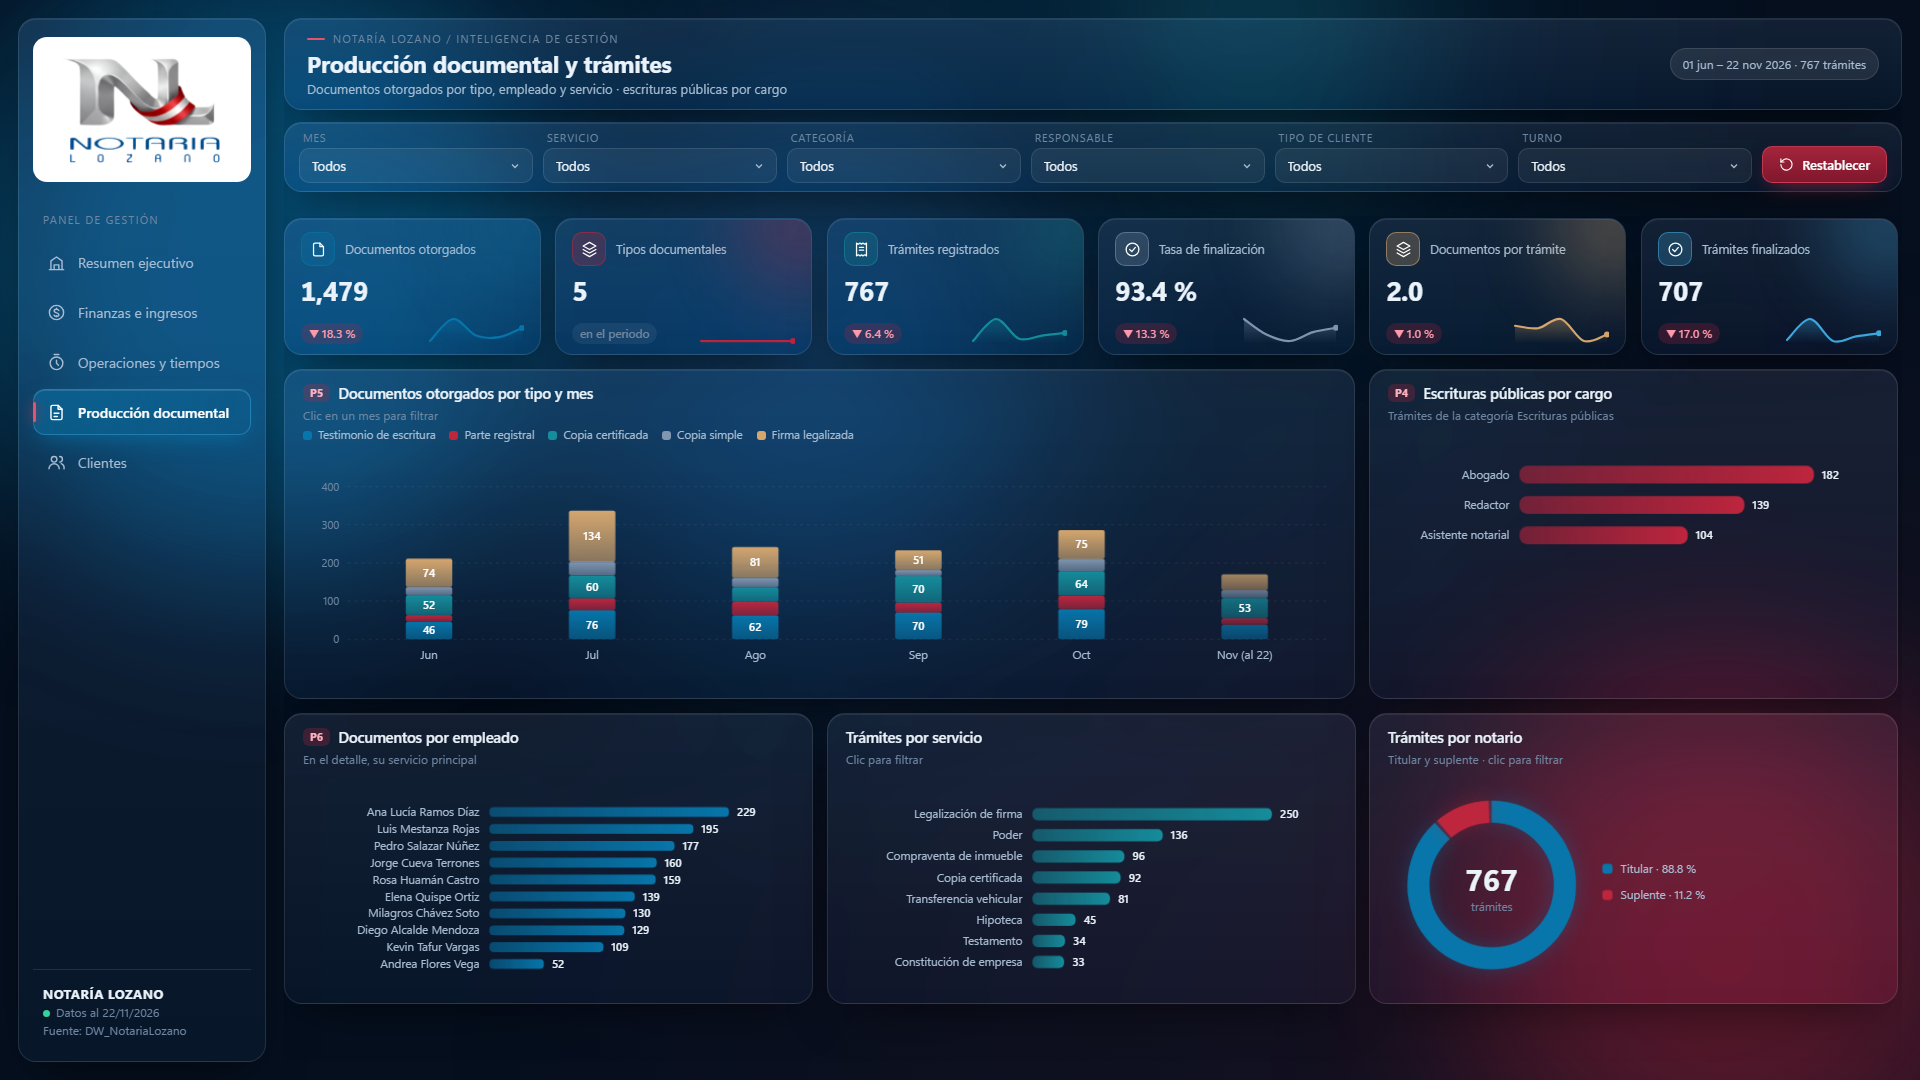

The page's visual inventory and layout, read from the dashboard file:
{"tool":"powerbi","page":{"name":"Producción documental y trámites","canvas":[1920,1280],"ordinal":2},"visuals":[{"type":"textbox","box":[302,67,1400,52],"z":0},{"type":"textbox","box":[304,123,1450,40],"z":1},{"type":"slicer","fields":{"Values":["DIM_TIEMPO.Anio"]},"box":[296,216,250.3,61],"z":3},{"type":"slicer","fields":{"Values":["DIM_TIEMPO.Nombre_Mes"]},"box":[560.3,216,250.3,61],"z":4},{"type":"slicer","fields":{"Values":["DIM_SERVICIO.Nombre_Tramite"]},"box":[824.7,216,250.3,61],"z":5},{"type":"slicer","fields":{"Values":["DIM_TIPO_DOCUMENTO.Nombre_TipoDocumento"]},"box":[1089,216,250.3,61],"z":6},{"type":"slicer","fields":{"Values":["DIM_NOTARIO.Nombre_Completo"]},"box":[1353.3,216,250.3,61],"z":7},{"type":"slicer","fields":{"Values":["DIM_ESTADO_PAGO.Estado"]},"box":[1617.7,216,250.3,61],"z":8},{"type":"card","fields":{"Values":["FACT_DOCUMENTOS_OTORGADOS.Documentos otorgados"]},"box":[280,310,308,122],"z":9},{"type":"card","fields":{"Values":["FACT_TRAMITE_GENERAL.Tramites registrados"]},"box":[604,310,308,122],"z":10},{"type":"card","fields":{"Values":["FACT_DOCUMENTOS_OTORGADOS.Tipos documentales atendidos"]},"box":[928,310,308,122],"z":11},{"type":"card","fields":{"Values":["FACT_TRAMITE_GENERAL.Cantidad de tramites"]},"box":[1252,310,308,122],"z":12},{"type":"card","fields":{"Values":["FACT_DOCUMENTOS_OTORGADOS.Variacion mensual documentos"]},"box":[1576,310,308,122],"z":13},{"type":"textbox","box":[298,1214,1578,36],"z":14},{"type":"lineChart","title":"Evolución mensual de documentos otorgados","fields":{"Category":["DIM_TIEMPO.Nombre_Mes"],"Y":["FACT_DOCUMENTOS_OTORGADOS.Documentos otorgados"]},"box":[306,494,492,214],"z":15},{"type":"clusteredBarChart","title":"Documentos por tipo documental","fields":{"Category":["DIM_TIPO_DOCUMENTO.Nombre_TipoDocumento"],"Y":["FACT_DOCUMENTOS_OTORGADOS.Documentos otorgados"]},"box":[846,494,492,214],"z":16},{"type":"clusteredColumnChart","title":"Trámites únicos por mes","fields":{"Category":["DIM_TIEMPO.Nombre_Mes"],"Y":["FACT_TRAMITE_GENERAL.Tramites registrados"]},"box":[1386,494,492,214],"z":17},{"type":"clusteredBarChart","title":"Trámites únicos por servicio","fields":{"Category":["DIM_SERVICIO.Nombre_Tramite"],"Y":["FACT_TRAMITE_GENERAL.Tramites registrados"]},"box":[306,744,492,214],"z":18},{"type":"clusteredBarChart","title":"Trámites únicos por notario","fields":{"Category":["DIM_NOTARIO.Nombre_Completo"],"Y":["FACT_TRAMITE_GENERAL.Tramites registrados"]},"box":[846,744,492,214],"z":19},{"type":"donutChart","title":"Trámites por estado de pago","fields":{"Category":["DIM_ESTADO_PAGO.Estado"],"Y":["FACT_TRAMITE_GENERAL.Tramites registrados"]},"box":[1386,744,492,214],"z":20},{"type":"tableEx","title":"Detalle documental agrupado por fecha, tipo, servicio y responsable","fields":{"Values":["DIM_TIEMPO.Fecha_Exacta","DIM_TIPO_DOCUMENTO.Nombre_TipoDocumento","DIM_SERVICIO.Nombre_Tramite","DIM_PERSONAL.Nombre_Completo","FACT_DOCUMENTOS_OTORGADOS.Documentos otorgados"]},"box":[295.5,978.2,1572.3,254.4],"z":21},{"type":"actionButton","box":[24,685,196,44],"z":23},{"type":"actionButton","box":[24,260,196,76],"z":40},{"type":"actionButton","box":[24,352,196,76],"z":41},{"type":"actionButton","box":[24,444,196,76],"z":42}]}

Visuals, with their boxes on the page's 1920x1280 design canvas (x1, y1, x2, y2). These are canvas units, not pixel positions in the 1920x1080 screenshot, which may show the page scaled, cropped or inside an application window:
textbox: box(302, 67, 1702, 119)
textbox: box(304, 123, 1754, 163)
slicer - DIM_TIEMPO.Anio: box(296, 216, 546, 277)
slicer - DIM_TIEMPO.Nombre_Mes: box(560, 216, 811, 277)
slicer - DIM_SERVICIO.Nombre_Tramite: box(825, 216, 1075, 277)
slicer - DIM_TIPO_DOCUMENTO.Nombre_TipoDocumento: box(1089, 216, 1339, 277)
slicer - DIM_NOTARIO.Nombre_Completo: box(1353, 216, 1604, 277)
slicer - DIM_ESTADO_PAGO.Estado: box(1618, 216, 1868, 277)
card - FACT_DOCUMENTOS_OTORGADOS.Documentos otorgados: box(280, 310, 588, 432)
card - FACT_TRAMITE_GENERAL.Tramites registrados: box(604, 310, 912, 432)
card - FACT_DOCUMENTOS_OTORGADOS.Tipos documentales atendidos: box(928, 310, 1236, 432)
card - FACT_TRAMITE_GENERAL.Cantidad de tramites: box(1252, 310, 1560, 432)
card - FACT_DOCUMENTOS_OTORGADOS.Variacion mensual documentos: box(1576, 310, 1884, 432)
textbox: box(298, 1214, 1876, 1250)
"Evolución mensual de documentos otorgados" lineChart: box(306, 494, 798, 708)
"Documentos por tipo documental" clusteredBarChart: box(846, 494, 1338, 708)
"Trámites únicos por mes" clusteredColumnChart: box(1386, 494, 1878, 708)
"Trámites únicos por servicio" clusteredBarChart: box(306, 744, 798, 958)
"Trámites únicos por notario" clusteredBarChart: box(846, 744, 1338, 958)
"Trámites por estado de pago" donutChart: box(1386, 744, 1878, 958)
"Detalle documental agrupado por fecha, tipo, servicio y responsable" tableEx: box(296, 978, 1868, 1233)
actionButton: box(24, 685, 220, 729)
actionButton: box(24, 260, 220, 336)
actionButton: box(24, 352, 220, 428)
actionButton: box(24, 444, 220, 520)
